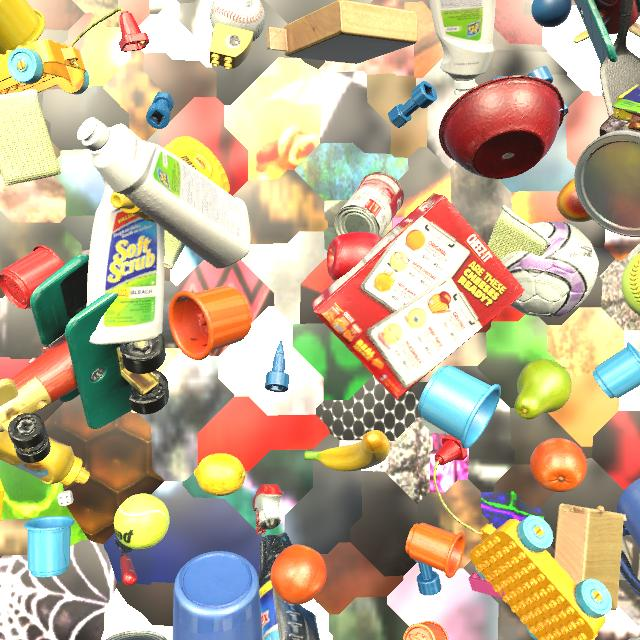ycb_003_cracker_box: (312, 193, 525, 400)
ycb_005_tomato_soup_can: (334, 172, 404, 237)
ycb_006_mustard_bottle: (110, 136, 230, 223), (0, 431, 90, 486)
ycb_007_tuna_fish_can: (106, 630, 167, 640)
ycb_011_banana: (304, 430, 390, 471)
ycb_013_apple: (327, 232, 381, 281)
ycb_014_lemon: (194, 453, 246, 496)
ycb_015_peach: (556, 178, 592, 222)
ycb_016_pear: (515, 359, 572, 419)
ycb_017_orange: (271, 544, 327, 605), (530, 438, 587, 492)
